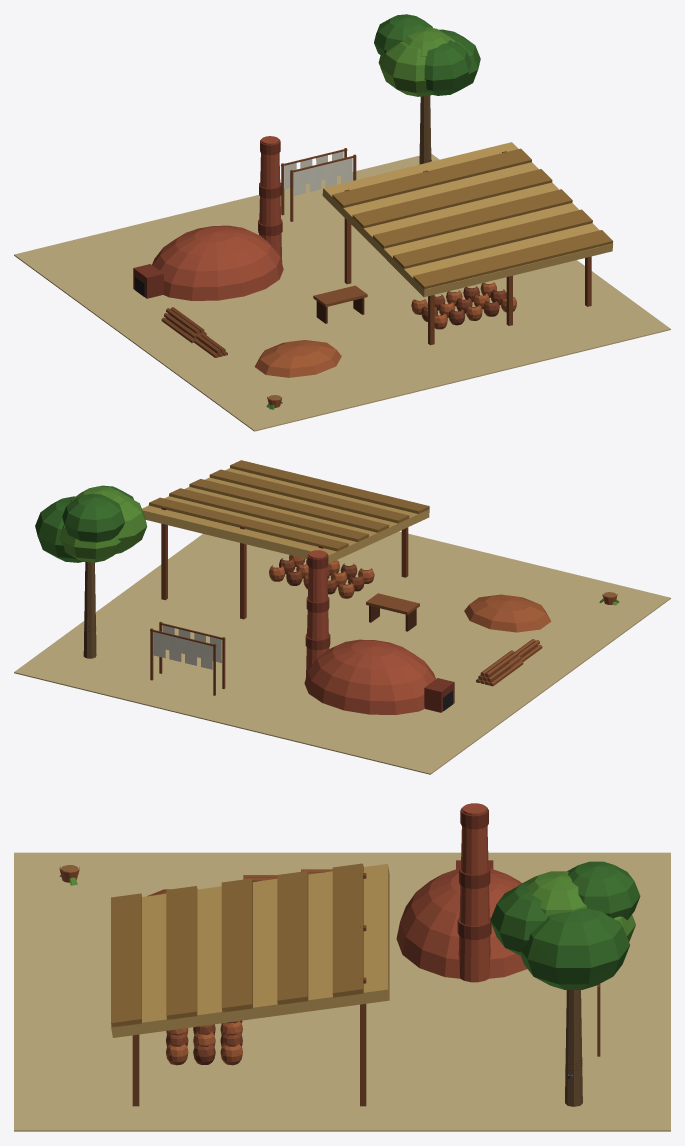
Rendered from factory_2.glb.
3 views of the same model, one above another, from view 1: azimuth 30°, elevation 25°; view 2: azimuth 150°, elevation 25°; view 3: azimuth 270°, elevation 25° (orthographic). The views are drawn at different scales.
Parts seen in each view (by area): view 1: body; view 2: body; view 3: body.
Boxes of the visible parts, bbox=[...] form: body: bbox=[14, 14, 670, 431]; body: bbox=[14, 460, 670, 774]; body: bbox=[14, 803, 670, 1131].
Size of the model in its own units: 16.21 by 6.48 by 15.9.
